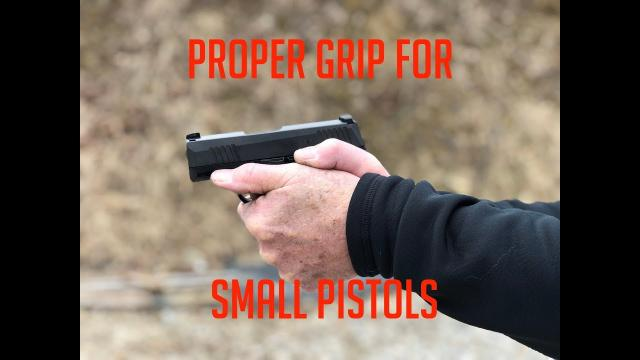handgun: (183, 112, 373, 216)
